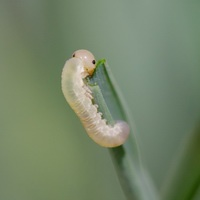insect: (61, 49, 129, 146)
